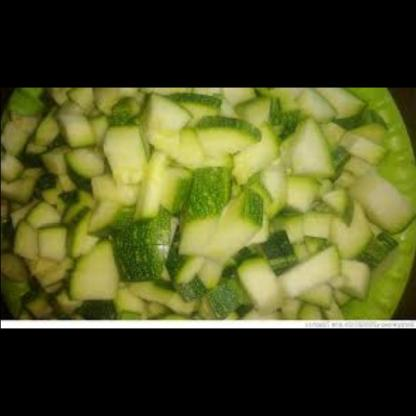vegetable marrow: (0, 86, 416, 316)
